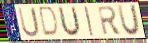D: (39, 6, 59, 39)
I: (83, 6, 95, 38)
R: (97, 5, 123, 37)
U: (116, 4, 141, 37), (16, 6, 40, 38), (58, 6, 82, 38)
